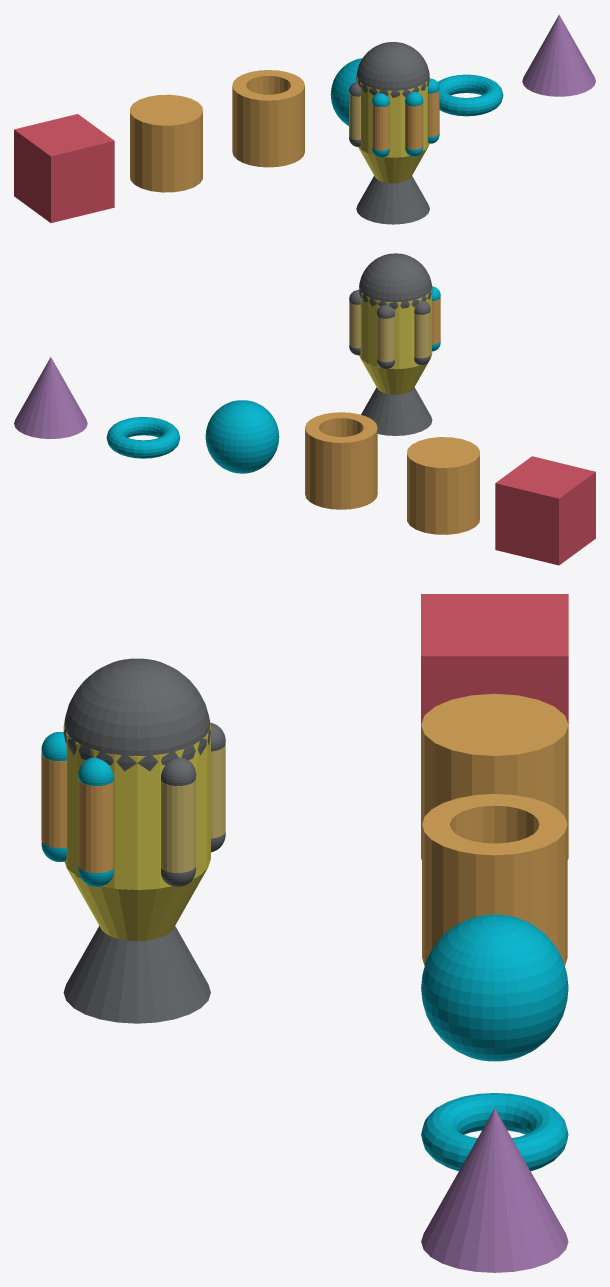
File: Tom3DBomb.glb
3 renders of one model, top to bottom at view 1: azimuth 30°, elevation 25°; view 2: azimuth 150°, elevation 25°; view 3: azimuth 270°, elevation 25°, orthographic. The views are drawn at different scales.
Parts seen in each view (by area): view 1: Mesh_Mesh_head_geo.001_lambert2SG.001; view 2: Mesh_Mesh_head_geo.001_lambert2SG.001; view 3: Mesh_Mesh_head_geo.001_lambert2SG.001.
Part boxes in pixels (left/top/right/bottom): Mesh_Mesh_head_geo.001_lambert2SG.001: left=14, top=14, right=595, bottom=224; Mesh_Mesh_head_geo.001_lambert2SG.001: left=14, top=253, right=595, bottom=565; Mesh_Mesh_head_geo.001_lambert2SG.001: left=41, top=594, right=568, bottom=1272.
Bounding box in the file's own units: 175 × 49 × 71.5.
